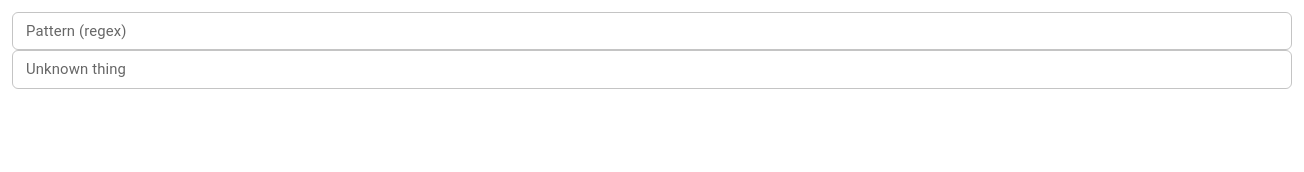
Context help › shows what a field is for on hover and focus, unless field tips are off
Later steps or results of the test are not shown.
Hover over the field labelled "Pattern (regex)": (652, 31) top-left (12, 12), bottom-right (1292, 50)
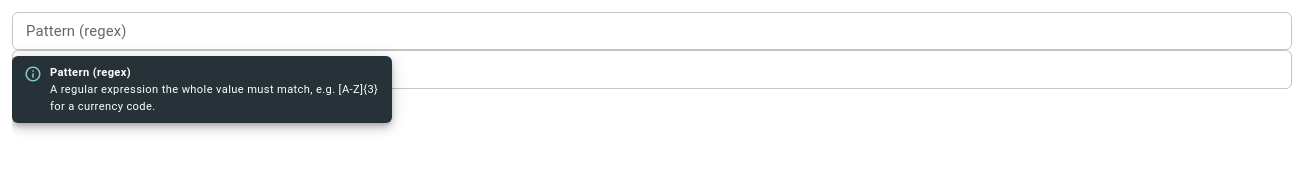
Result: the tooltip named "Field help" shows "Pattern (regex)" at top-left (50, 66), bottom-right (131, 79)
Result: the tooltip named "Field help" shows "regular expression" at top-left (50, 84), bottom-right (378, 113)
